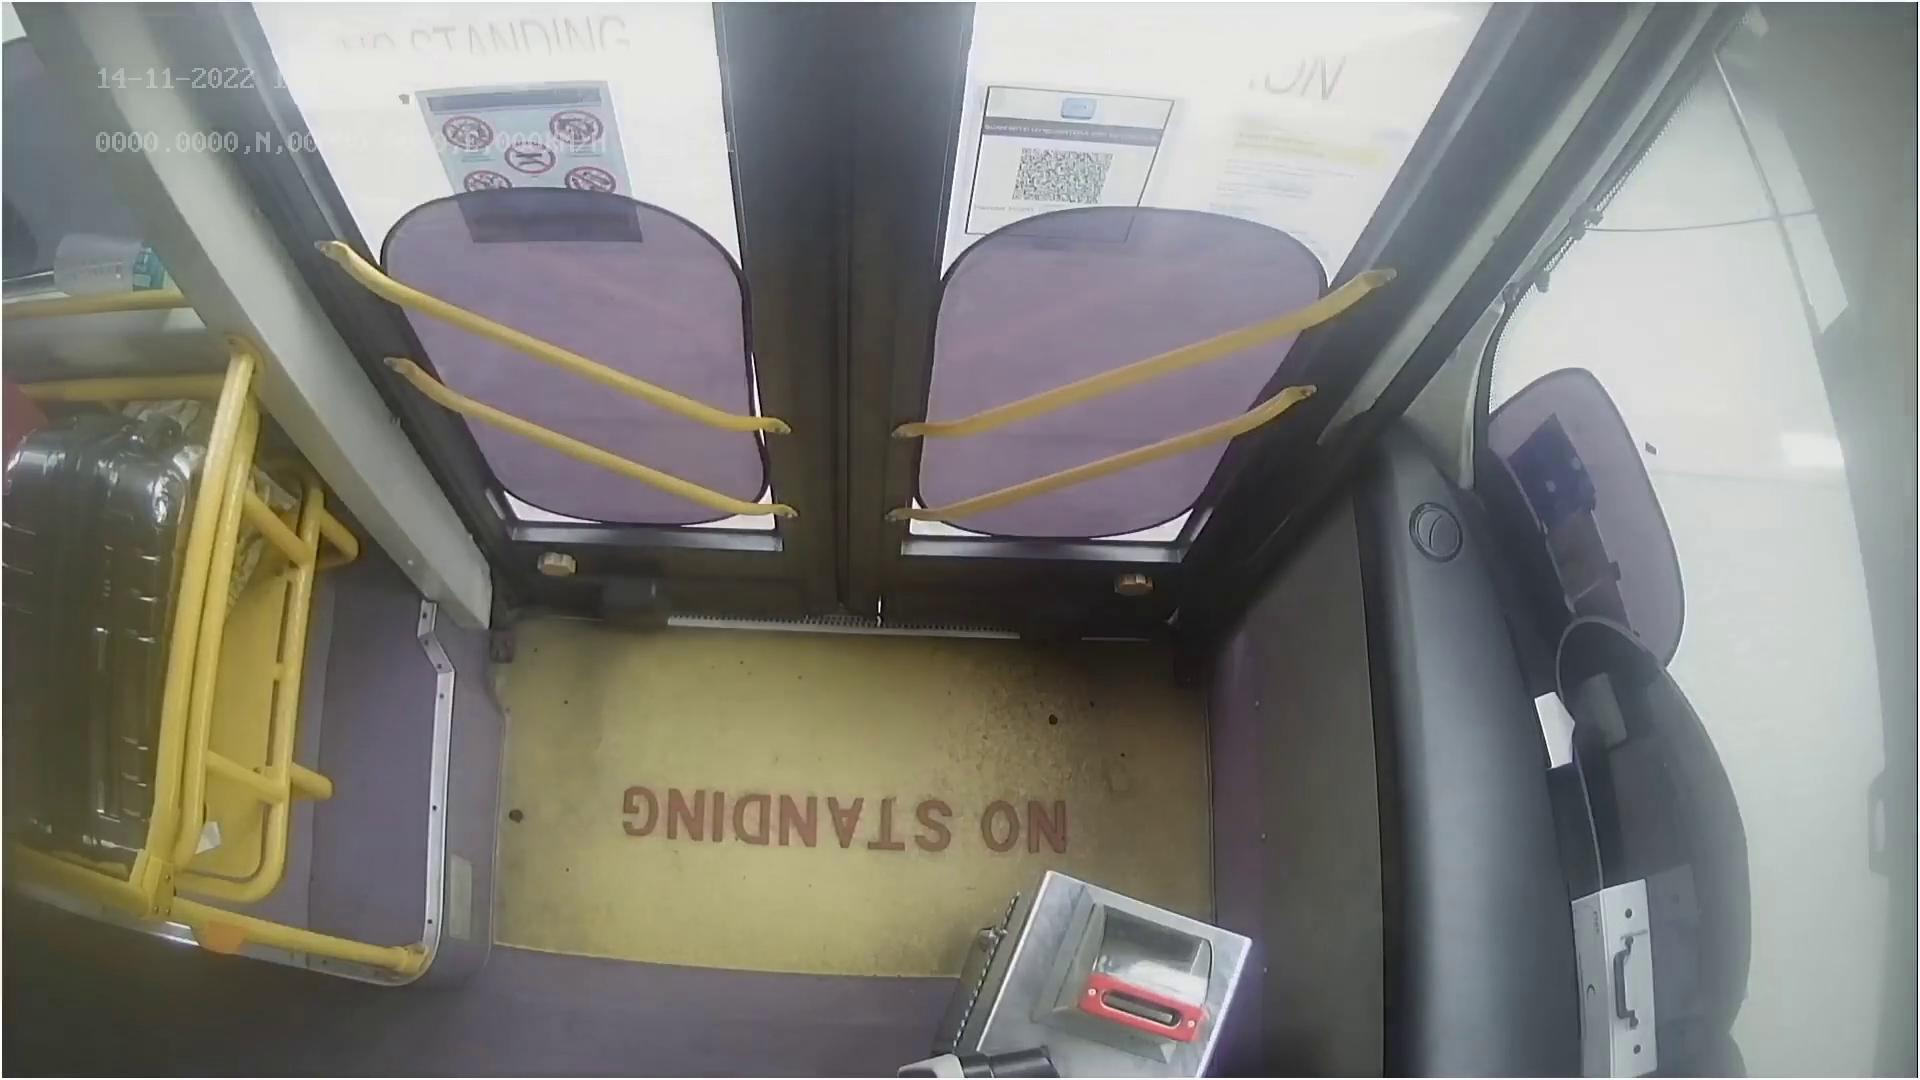close: (286, 0, 1440, 165)
